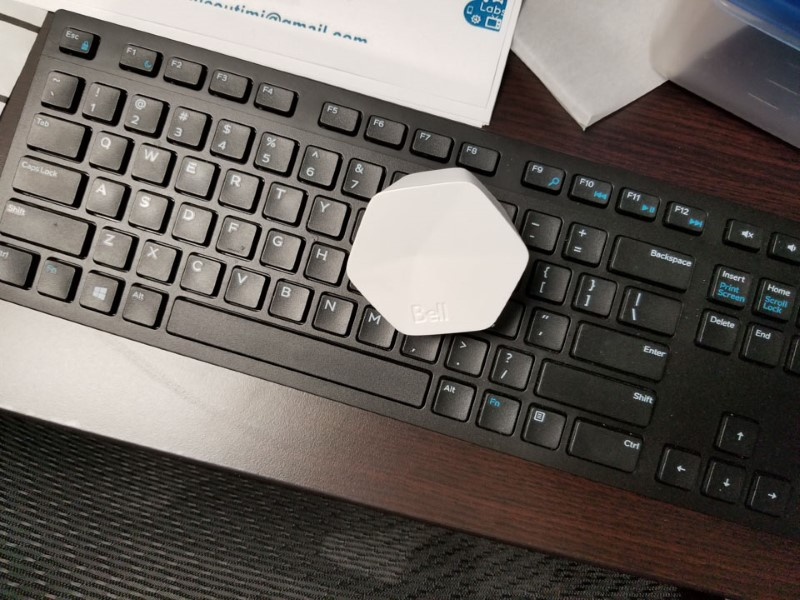pod: (341, 166, 538, 343)
